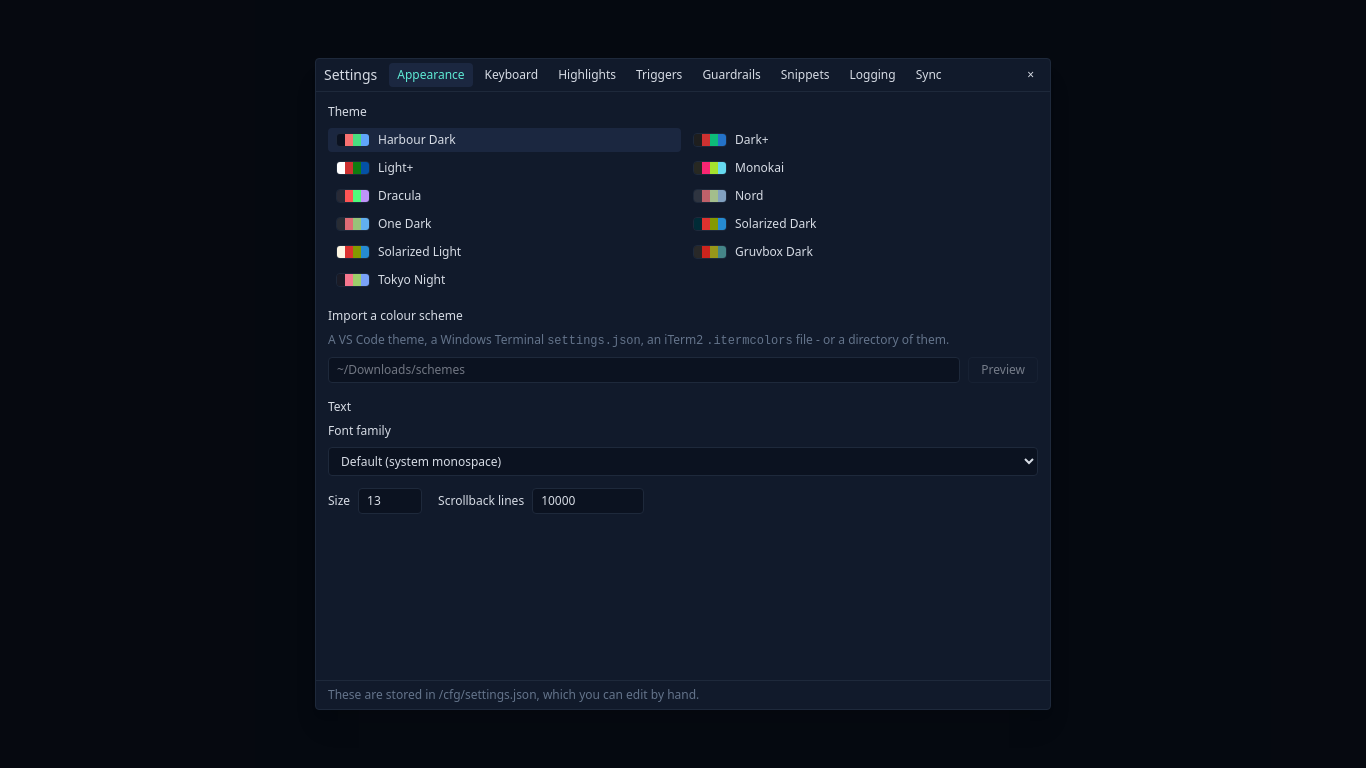
keyboard › lists the built-in chords
Click the button "Keyboard" at [511, 75], box [477,63,546,87]
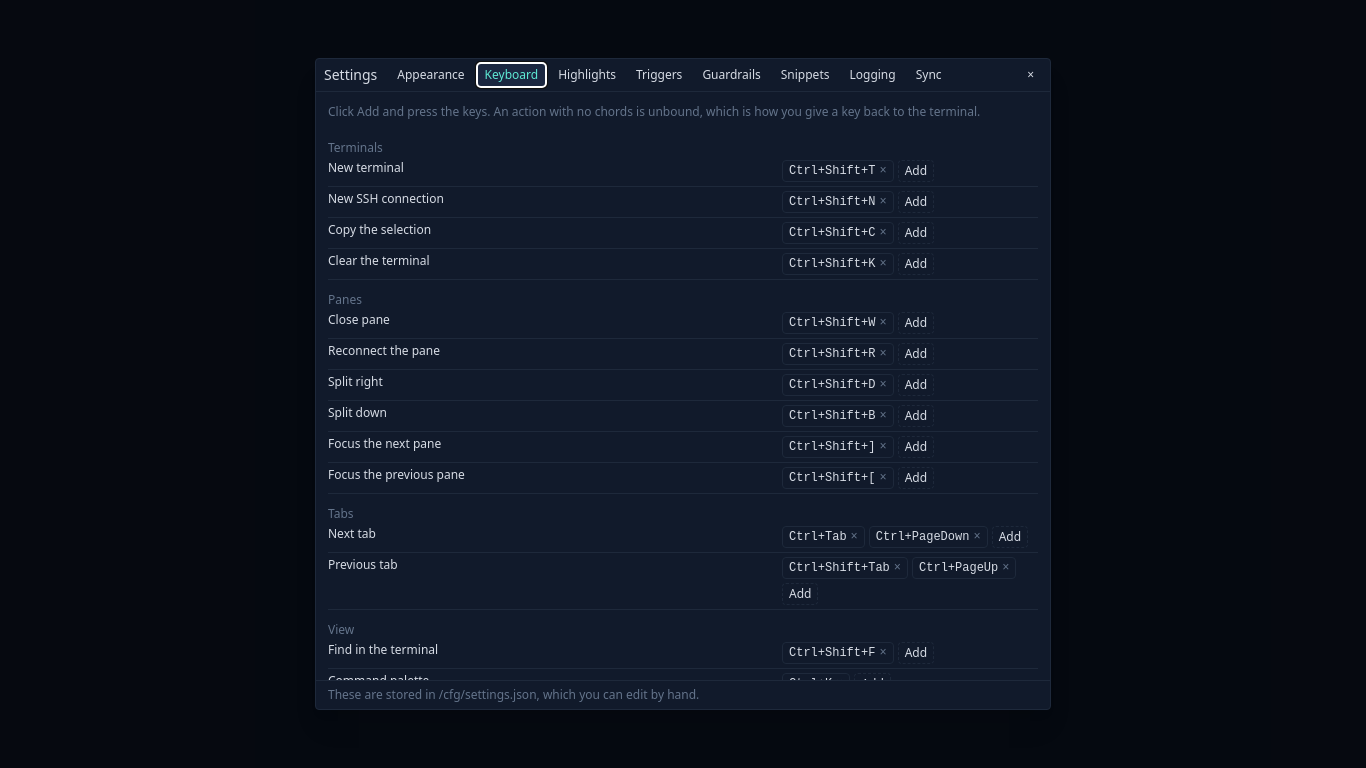
Now the text "Ctrl+Shift+T" is shown, box [789,164,875,178]
Now the text "Ctrl+Shift+D" is shown, box [789,378,875,392]
